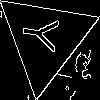Y: (20, 14, 68, 54)
